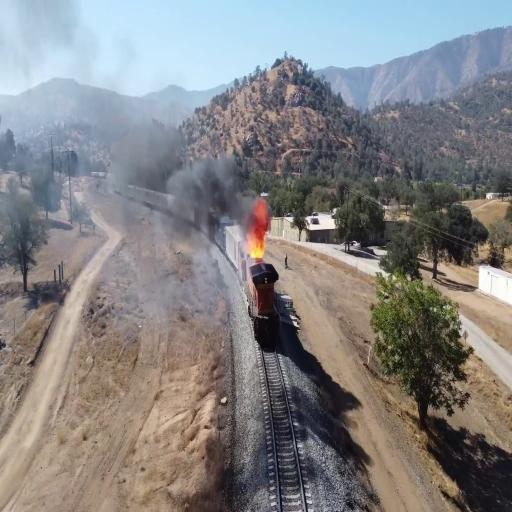fire: (244, 193, 271, 262)
smoke: (176, 158, 244, 229)
